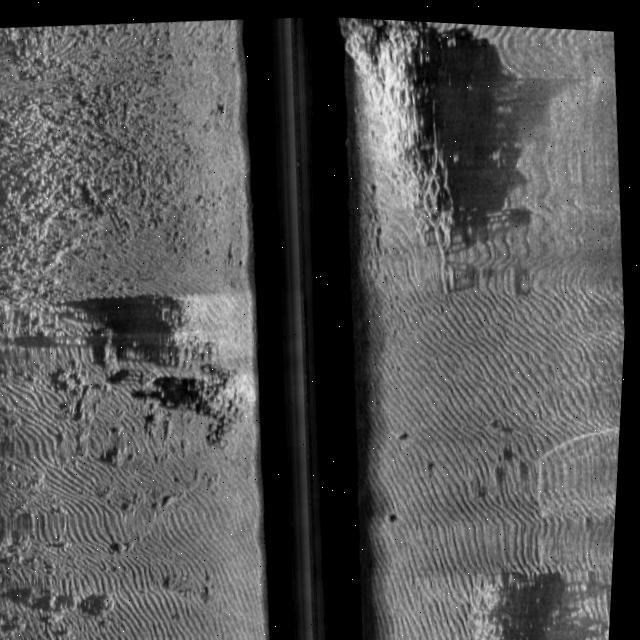artificial reef: (324, 14, 467, 255)
